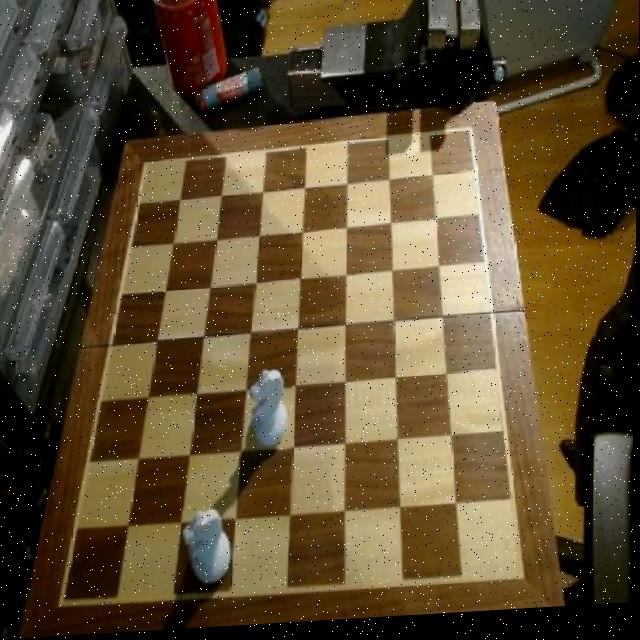white-king: (184, 507, 237, 593), (250, 368, 295, 457)
